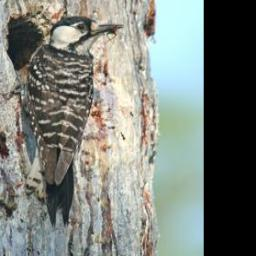Woodpecker: (0, 14, 126, 232)
